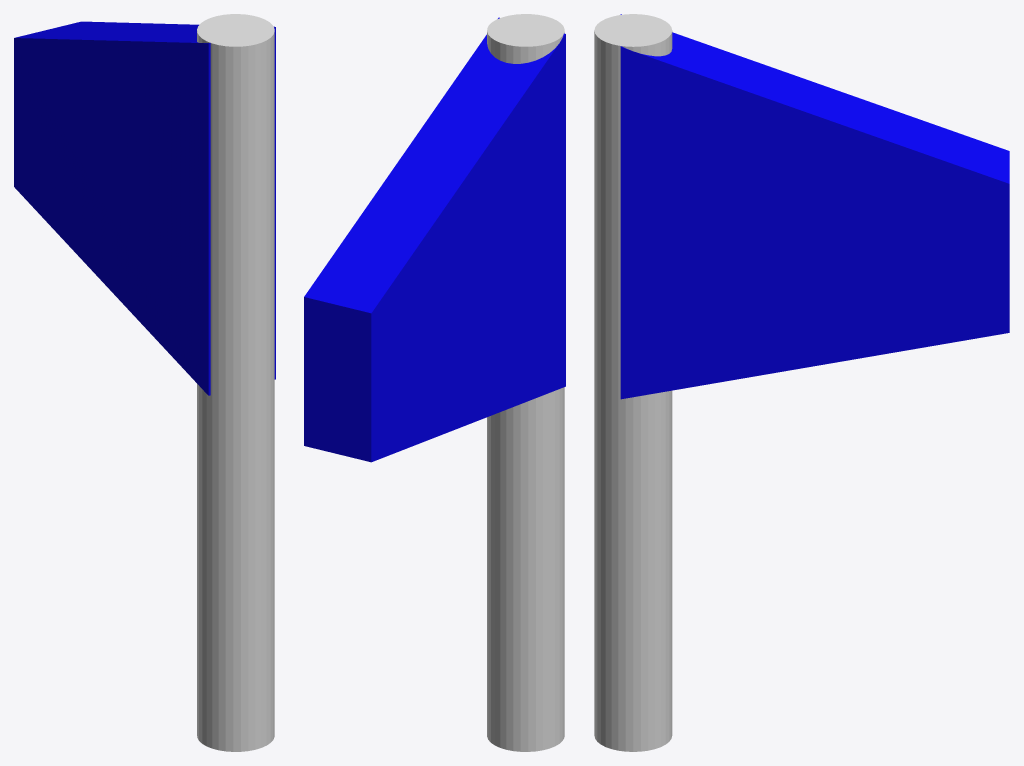
The model's file is BlueFlag.dae.
The picture shows the model from 3 angles, left to right: view 1: azimuth 30°, elevation 25°; view 2: azimuth 150°, elevation 25°; view 3: azimuth 270°, elevation 25°; orthographic projection.
Visible parts, largest first — view 1: Cube, Cylinder; view 2: Cube, Cylinder; view 3: Cube, Cylinder.
Part boxes in pixels (box(x1,y1,x2,y2)): Cube: box(14, 21, 275, 395); Cylinder: box(197, 14, 274, 751); Cube: box(304, 17, 565, 462); Cylinder: box(487, 14, 564, 751); Cube: box(620, 14, 1009, 399); Cylinder: box(594, 14, 672, 751).
Size of the model in its own units: 0.02 by 0.1067 by 0.2.
